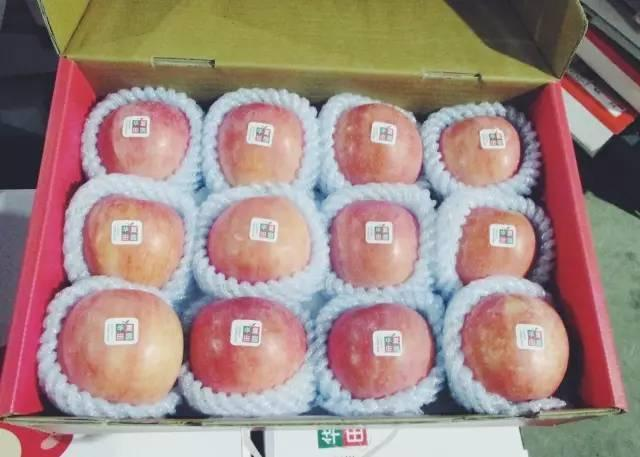apple: (53, 288, 183, 406), (458, 292, 572, 401), (188, 298, 309, 392), (325, 299, 434, 398), (81, 192, 188, 289), (205, 197, 313, 286), (327, 199, 422, 285), (94, 99, 191, 178), (215, 103, 304, 188), (333, 105, 423, 184), (452, 207, 537, 282), (437, 116, 521, 187)
